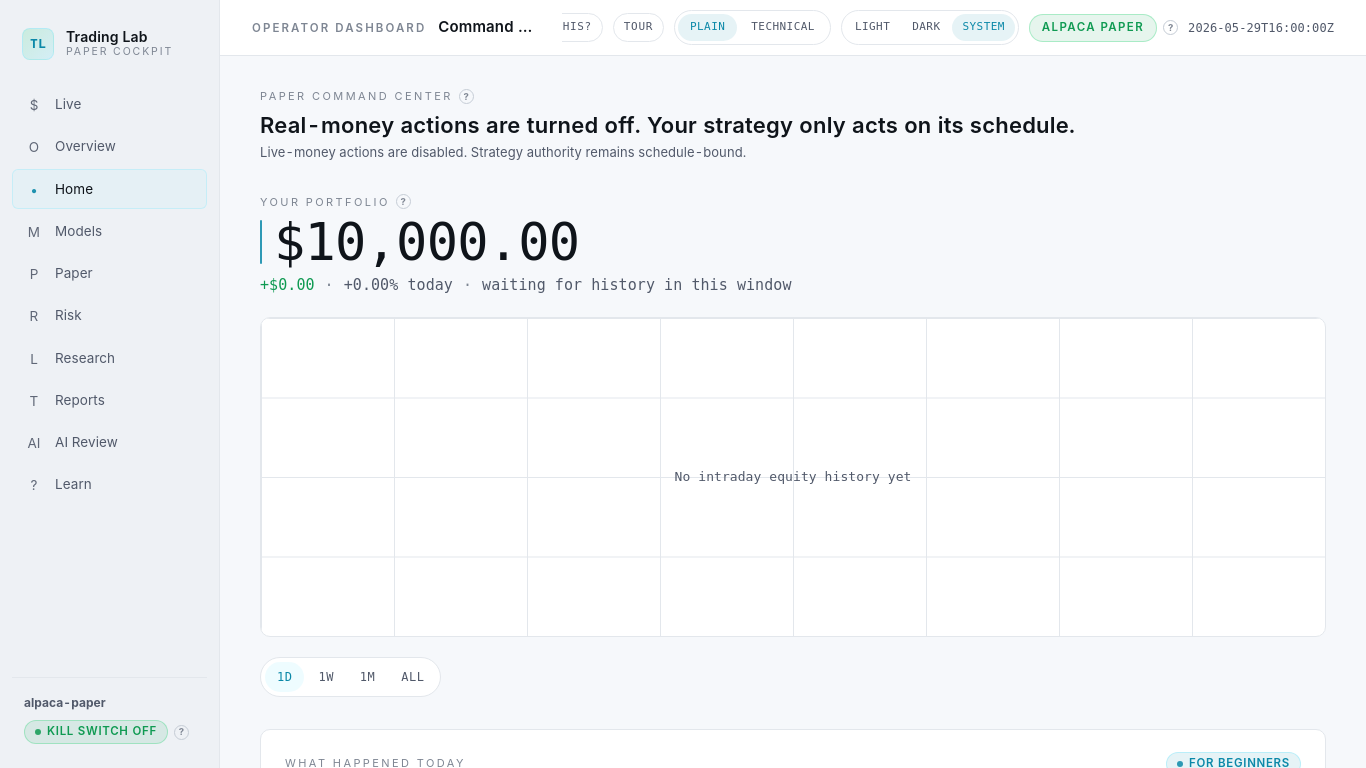
Test case: DashboardClient › renders live sandbox chart scale, series, and current values
Click the button "$ Live". click: (110, 104)
box: [12,84,207,124]
(page scrolled)
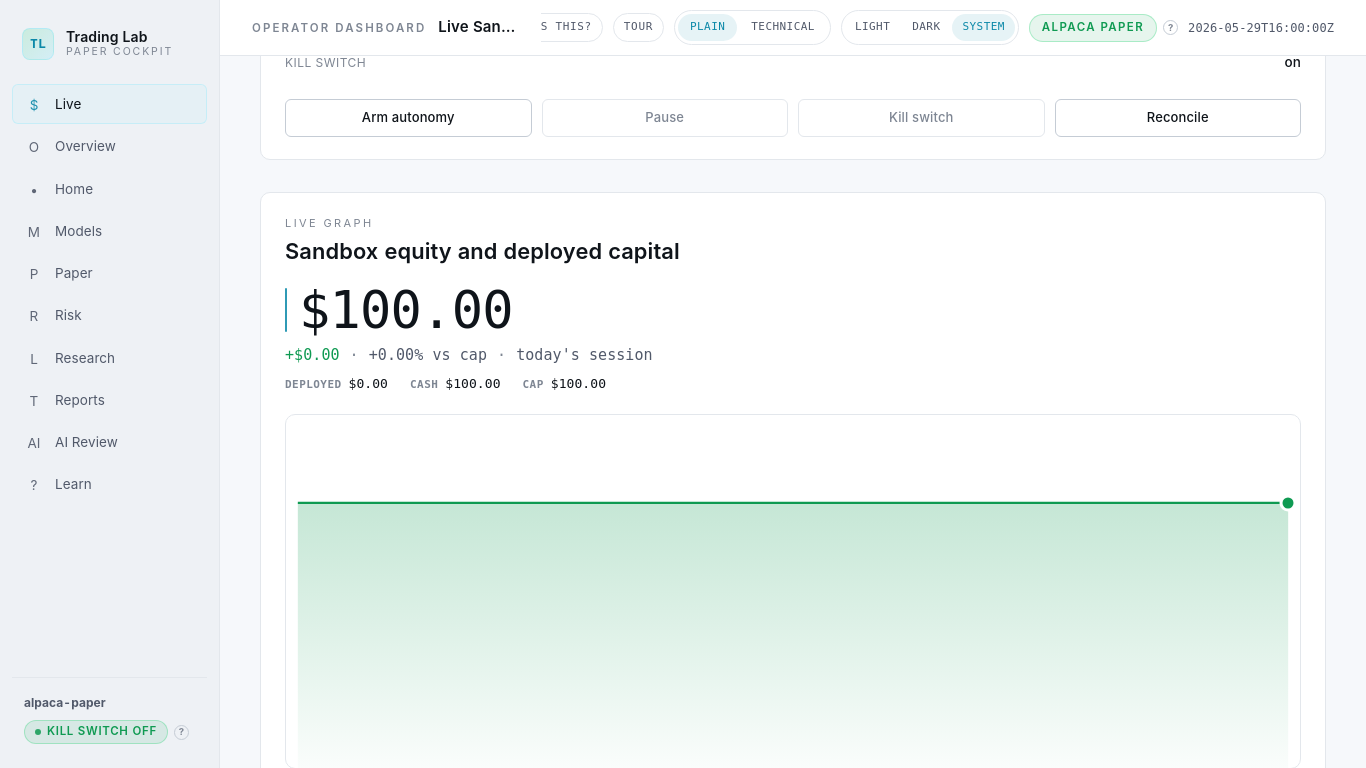
expect the picture named "Live sandbox equity and deployed capital" is shown: met, box [286,415,1300,767]
expect the text "$100.00" is shown: met, box [299,280,513,340]
expect the element named "Live sandbox capital breakdown" shows "Deployed": met, box [285,378,342,391]
